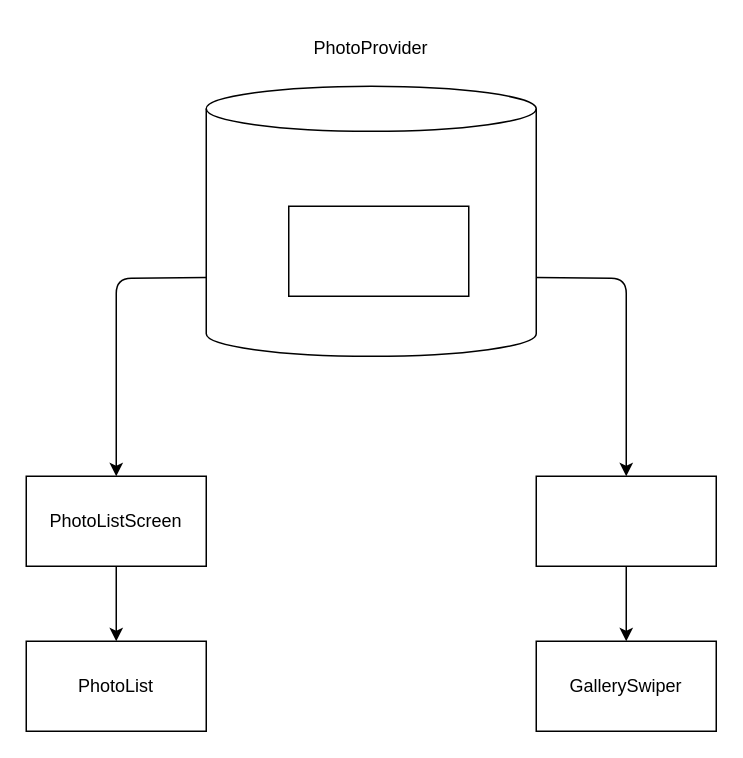
Some shapes in this 743 by 758 pixel diagram are drawn without their labels. The centre of each missing label's shape, as x and y in pixels:
"App.js" goes at (x=378, y=250).
"PhotoDetailsScreen" goes at (x=625, y=520).
